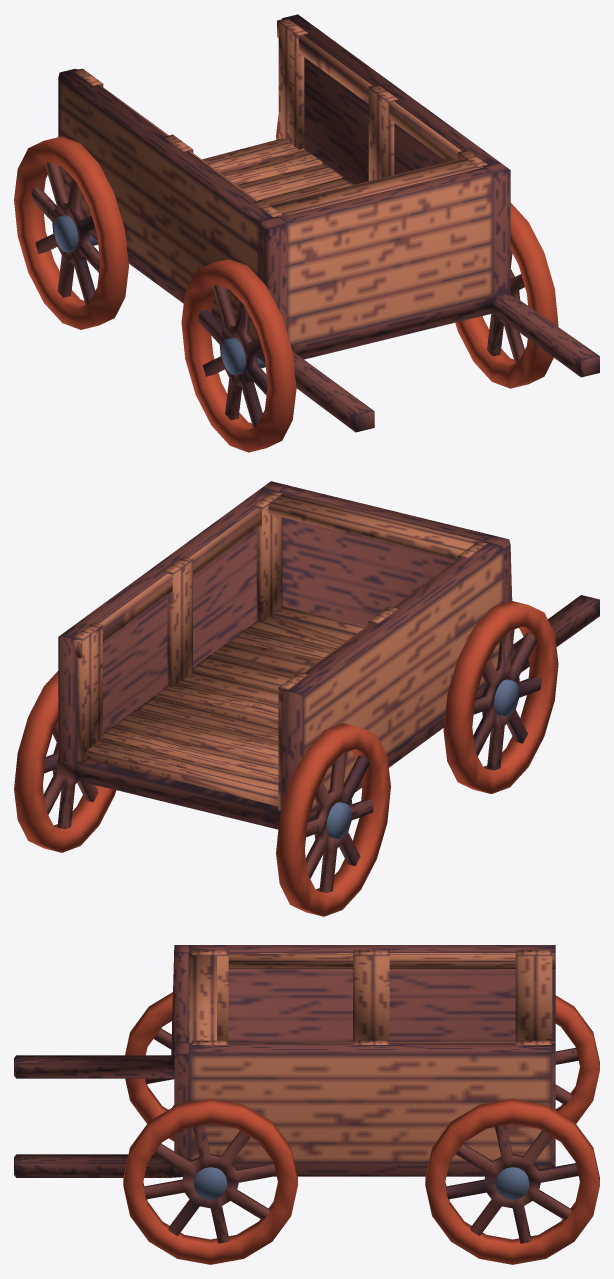
Rendered from Carroca.fbx.
3 renders of one model, top to bottom at view 1: azimuth 30°, elevation 25°; view 2: azimuth 150°, elevation 25°; view 3: azimuth 270°, elevation 25°, orthographic. The views are drawn at different scales.
Visible parts, largest first — view 1: Carroca; view 2: Carroca; view 3: Carroca.
Part boxes in pixels (left/top/right/bottom): Carroca: left=14, top=14, right=599, bottom=452; Carroca: left=14, top=481, right=599, bottom=916; Carroca: left=14, top=945, right=599, bottom=1264.
Bounding box in the file's own units: 200 × 402 × 156.
